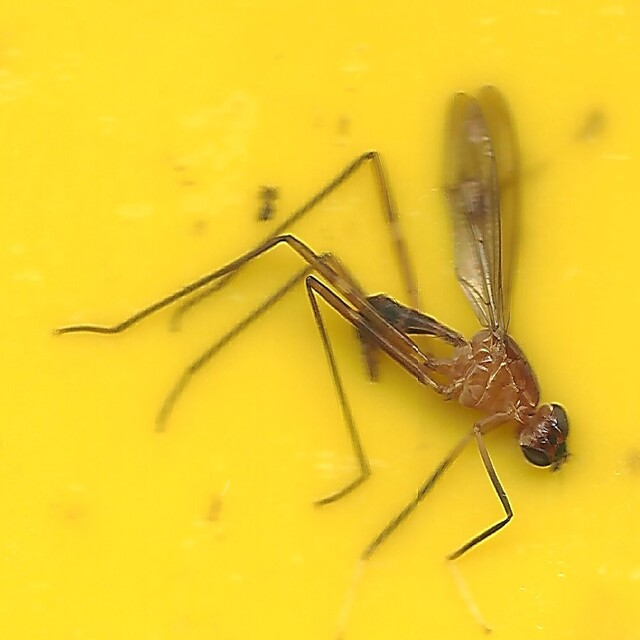Brachycera: (65, 81, 575, 559)
